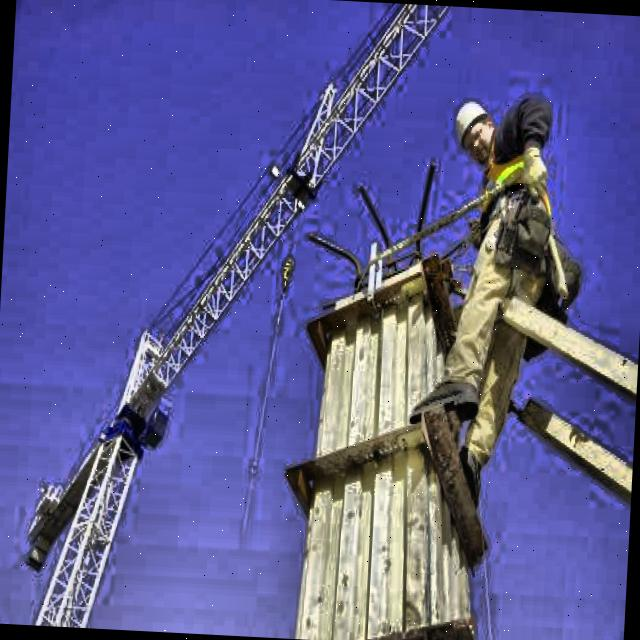helmet: (452, 100, 500, 170)
